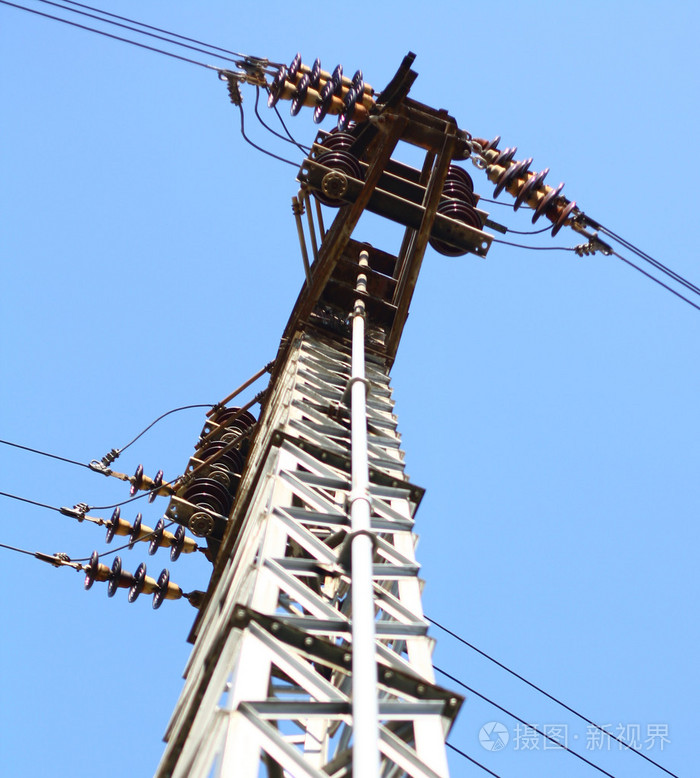insulator: (482, 134, 579, 238), (264, 52, 365, 128), (82, 547, 176, 613), (100, 503, 189, 561), (126, 462, 167, 506)
